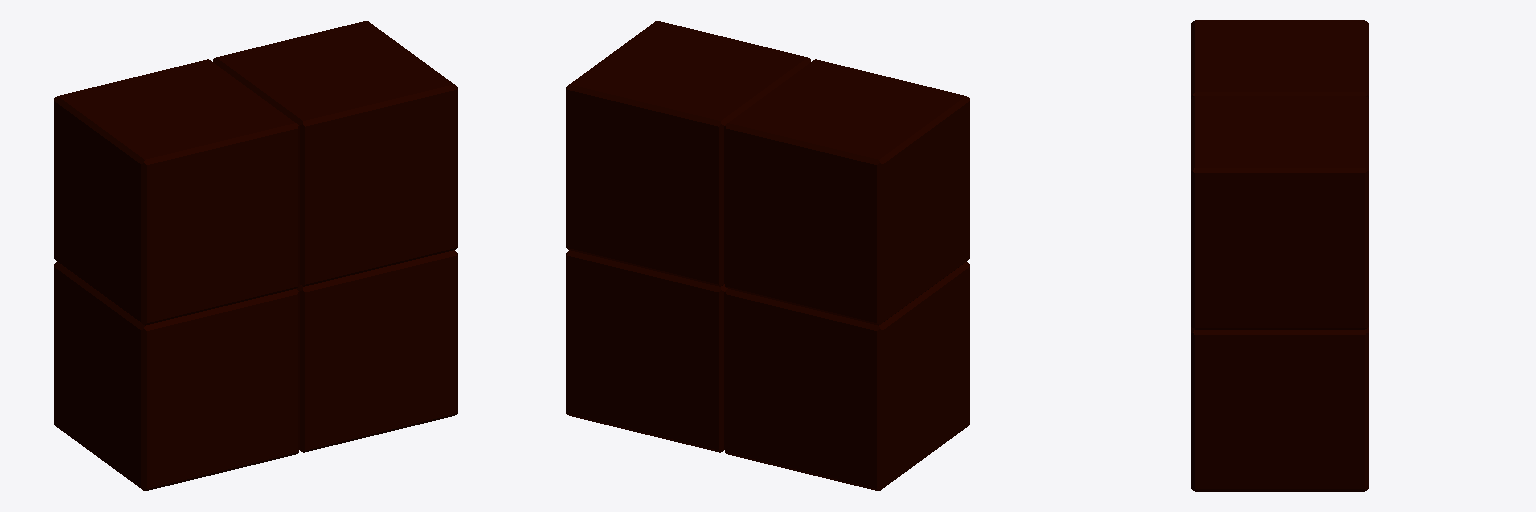
robot.urdf — brown_block:
<?xml version="1.0"?>
<robot name="brown_block">
	<link name="base_link">
		<visual>
			<geometry>
				<mesh filename="package://irsl_sim_environments/urdf/puzzle_blocks/brown_block/brown_block_base_link.dae" />
			</geometry>
		</visual>
		<collision>
			<origin xyz="0.000000000000e+00 0.000000000000e+00 0.000000000000e+00" rpy="0.000000000000e+00 -0.000000000000e+00 0.000000000000e+00" />
			<geometry>
				<box size="3.000000000000e-02 3.000000000000e-02 3.000000000000e-02" />
			</geometry>
		</collision>
		<collision>
			<origin xyz="3.000000000000e-02 0.000000000000e+00 0.000000000000e+00" rpy="0.000000000000e+00 -0.000000000000e+00 0.000000000000e+00" />
			<geometry>
				<box size="3.000000000000e-02 3.000000000000e-02 3.000000000000e-02" />
			</geometry>
		</collision>
		<collision>
			<origin xyz="0.000000000000e+00 0.000000000000e+00 3.000000000000e-02" rpy="0.000000000000e+00 -0.000000000000e+00 0.000000000000e+00" />
			<geometry>
				<box size="3.000000000000e-02 3.000000000000e-02 3.000000000000e-02" />
			</geometry>
		</collision>
		<collision>
			<origin xyz="3.000000000000e-02 0.000000000000e+00 3.000000000000e-02" rpy="0.000000000000e+00 -0.000000000000e+00 0.000000000000e+00" />
			<geometry>
				<box size="3.000000000000e-02 3.000000000000e-02 3.000000000000e-02" />
			</geometry>
		</collision>
		<inertial>
			<mass value="0.021599999999999998" />
			<origin xyz="1.500000000000e-02 0.000000000000e+00 1.500000000000e-02" />
			<inertia ixx="8.0999999999999987e-06" ixy="0" ixz="0" iyy="1.2959999999999998e-05" iyz="0" izz="8.0999999999999987e-06" />
		</inertial>
	</link>
</robot>

--- What the picture shows (computed from the rendered views, not written in the file) ---
3 views of the same robot in one strip: view 1: azimuth 30°, elevation 25°; view 2: azimuth 150°, elevation 25°; view 3: azimuth 270°, elevation 25° (orthographic).
Model brown_block with 1 links and 0 joints (none), rooted at base_link, posed all joints at 0.
Visible links, largest first — view 1: base_link; view 2: base_link; view 3: base_link.
Link boxes in pixels (box(x1,y1,x2,y2)): base_link: box(54, 21, 457, 490); base_link: box(566, 21, 969, 490); base_link: box(1191, 20, 1368, 491).
Bounding box of the posed robot: 0.06 × 0.03 × 0.06 m (x, y, z).
Meshes: 1 distinct files referenced, 1 mesh visuals loaded (1 Collada DAE).